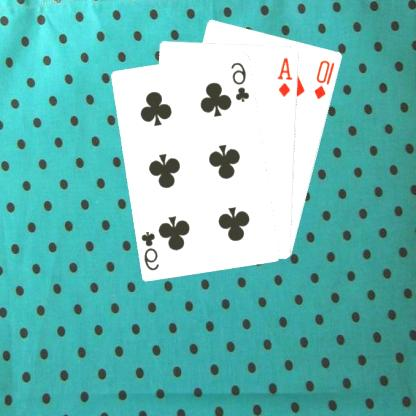10D: (314, 57, 338, 101)
6C: (230, 59, 253, 103), (140, 228, 162, 271)
AD: (276, 54, 296, 98)
